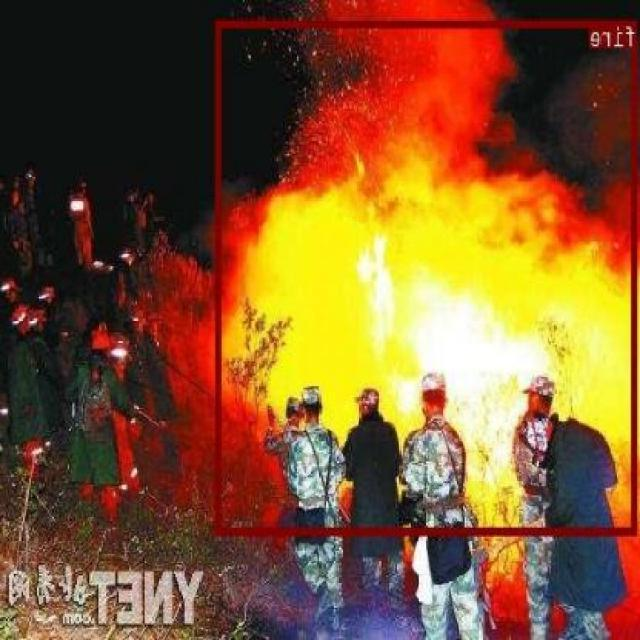Fire: (216, 18, 638, 534)
